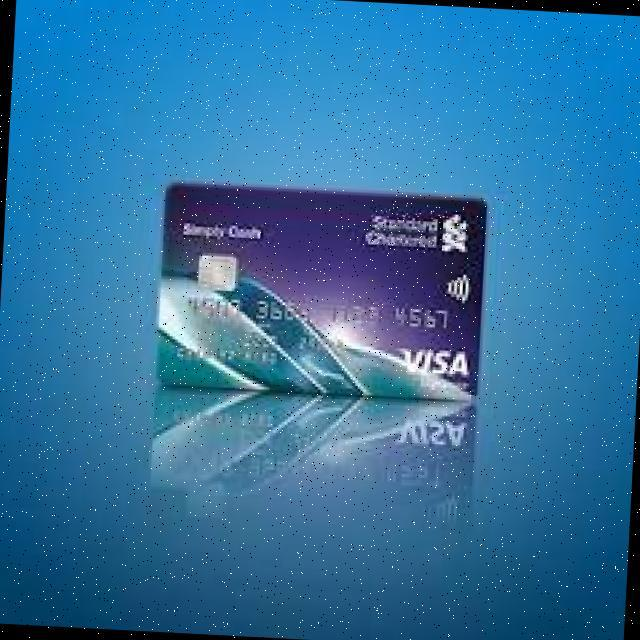Standard Chartered: (369, 203, 467, 252)
